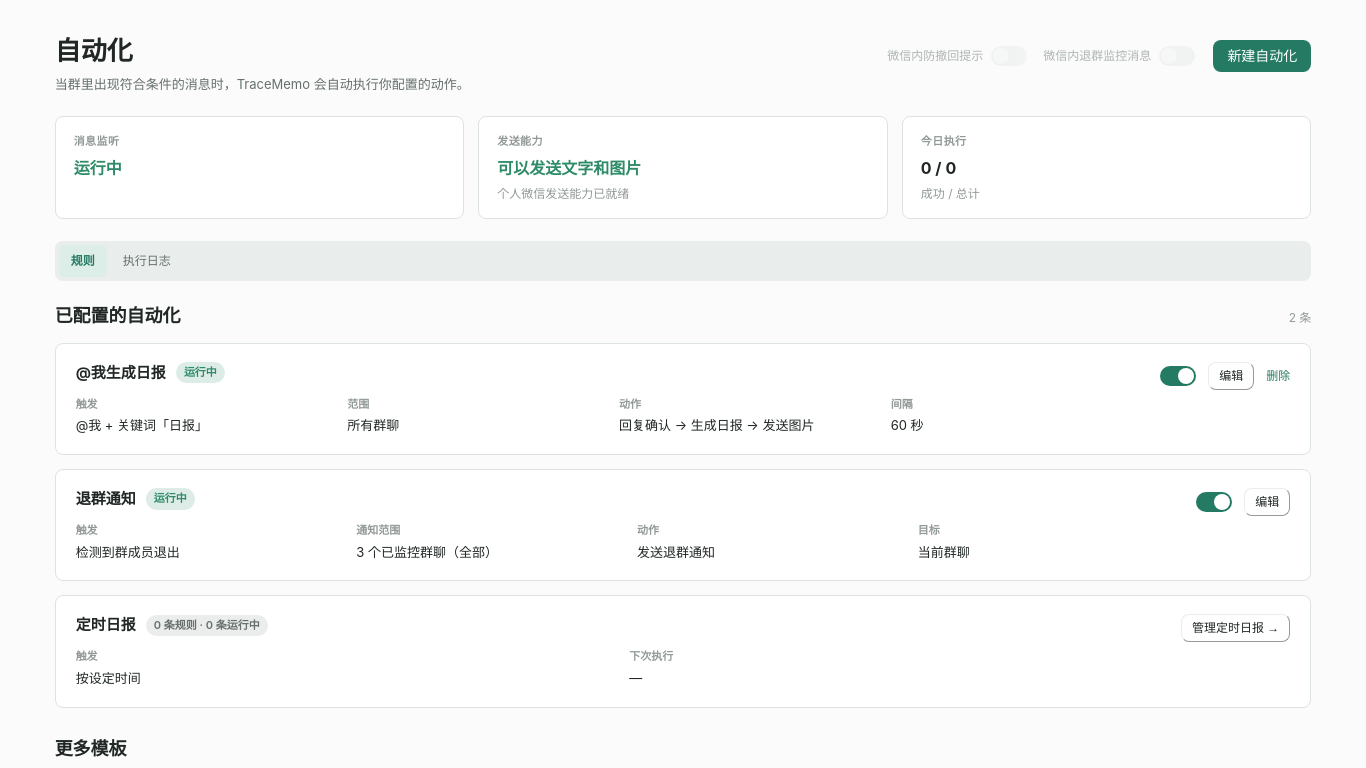
Test case: 退群通知 · 真实数据 › 已监控群聊数量来自退群监控
Click the 2nd button "编辑" at x=1267, y=502, box [1244,488,1290,516]
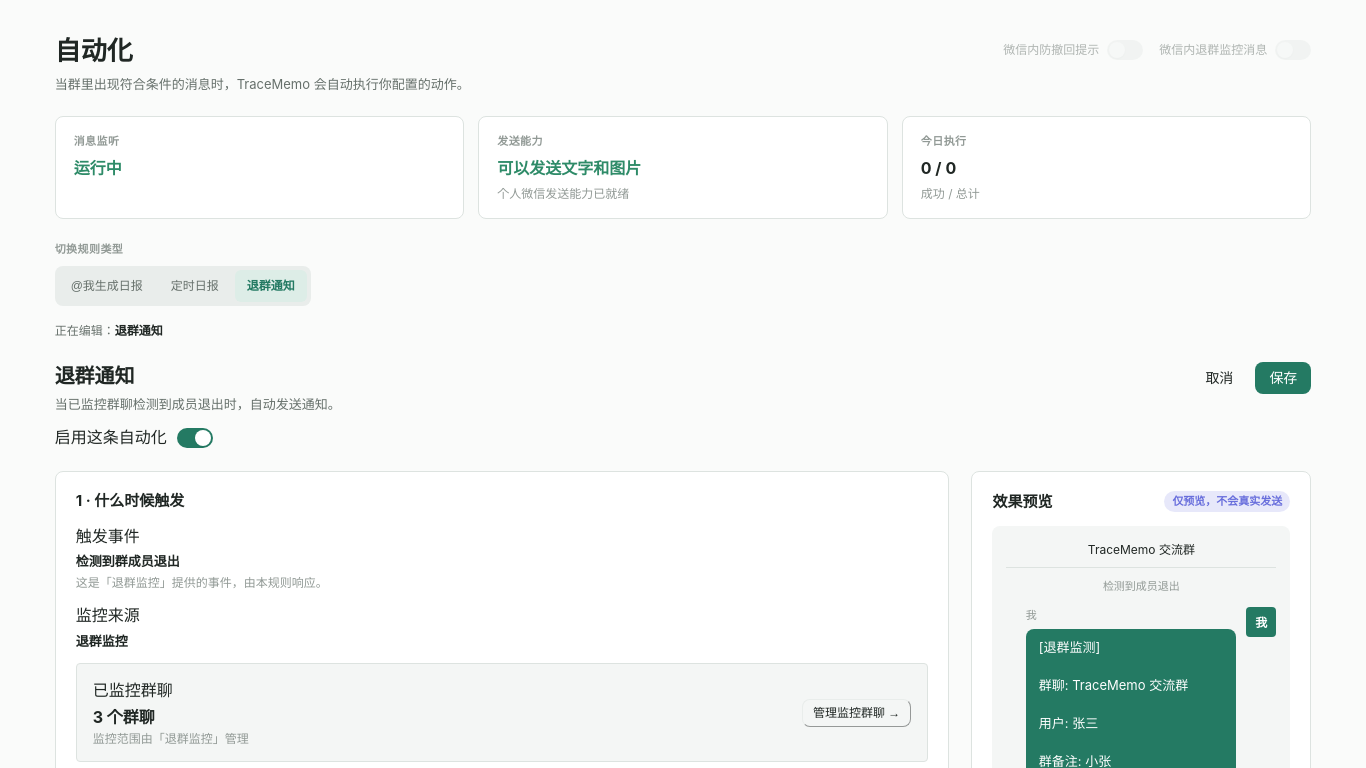
Check: the text "3 个群聊" is shown, box [93,707,155,727]
